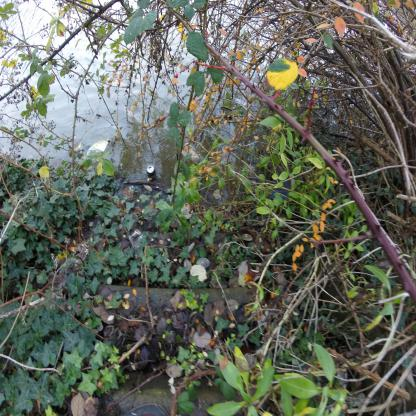metal: (146, 164, 156, 180)
